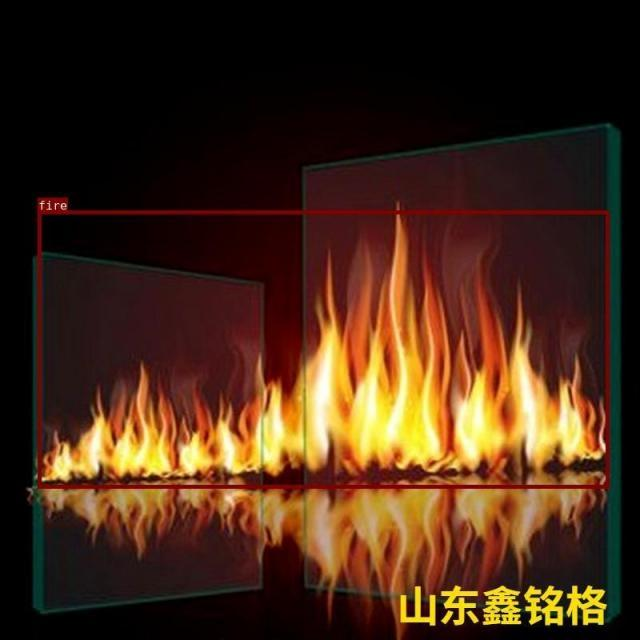fire: (38, 210, 609, 487)
